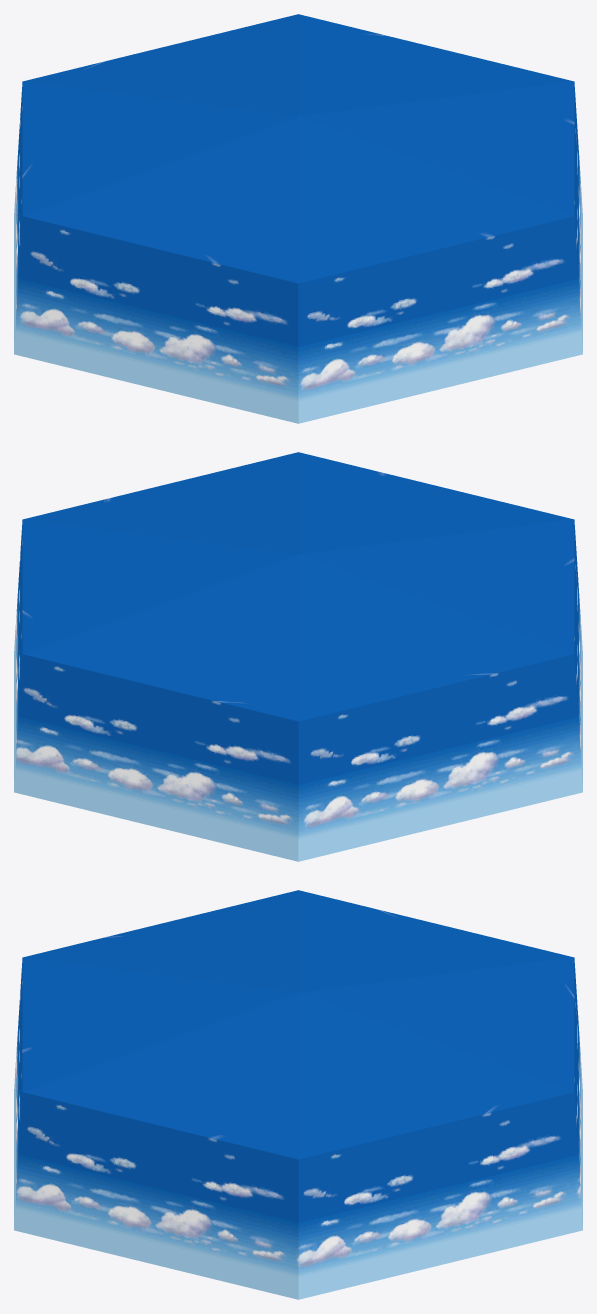
File: old_mario_gc.glb
The picture shows the model from 3 angles, top to bottom: view 1: azimuth 30°, elevation 25°; view 2: azimuth 150°, elevation 25°; view 3: azimuth 270°, elevation 25°; orthographic projection.
Parts seen in each view (by area): view 1: old_mario_gc; view 2: old_mario_gc; view 3: old_mario_gc.
Part boxes in pixels (left/top/right/bottom): old_mario_gc: left=14, top=14, right=582, bottom=423; old_mario_gc: left=14, top=452, right=582, bottom=861; old_mario_gc: left=14, top=890, right=582, bottom=1299.
Size of the model in its own units: 1263 by 357 by 1094.
Materials: 23 (23 with a texture image).
